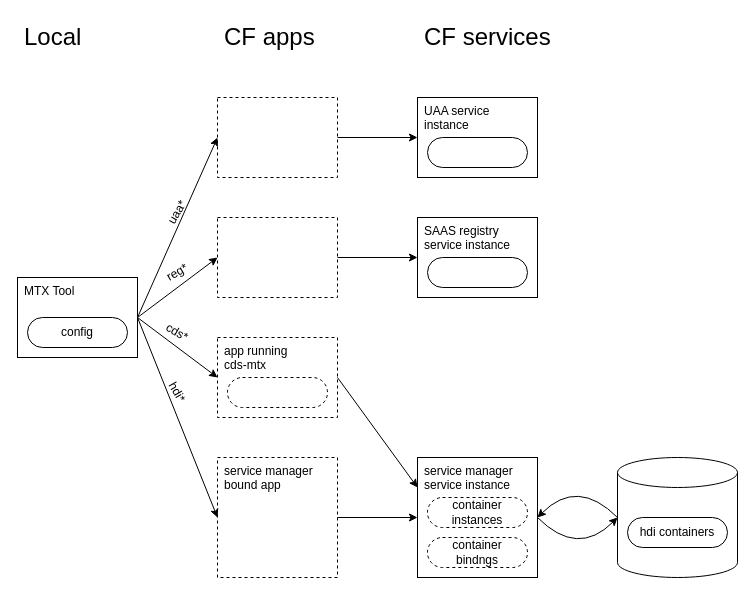
The diagram is 755 pixels wide and 595 high, and some of its shapes have lost their labels. The centre of each missing label's shape, as x and y in pixels:
"cds tenants" goes at point 277,392.
"registered subaccounts" goes at point 477,272.
"SAAS registry bound app" goes at point 277,257.
"service dependencies" goes at point 477,152.
"UAA bound app" goes at point 277,137.
